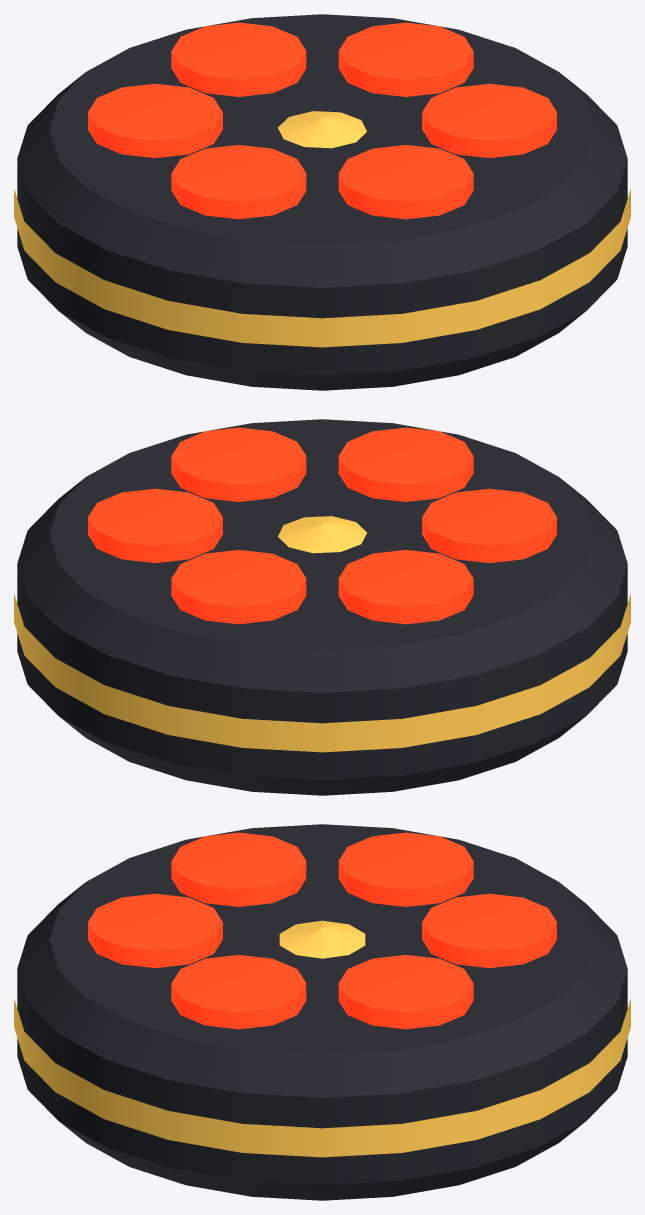
The model's file is lb4_chambers_6.glb.
3 renders of one model, top to bottom at view 1: azimuth 30°, elevation 25°; view 2: azimuth 150°, elevation 25°; view 3: azimuth 270°, elevation 25°, orthographic.
Parts seen in each view (by area): view 1: lb4_chambers_6; view 2: lb4_chambers_6; view 3: lb4_chambers_6.
Part boxes in pixels (<box>): lb4_chambers_6: <box>14,14,630,390</box>; lb4_chambers_6: <box>14,419,630,795</box>; lb4_chambers_6: <box>14,824,630,1200</box>.
Bounding box in the file's own units: 0.192 × 0.058 × 0.192.
